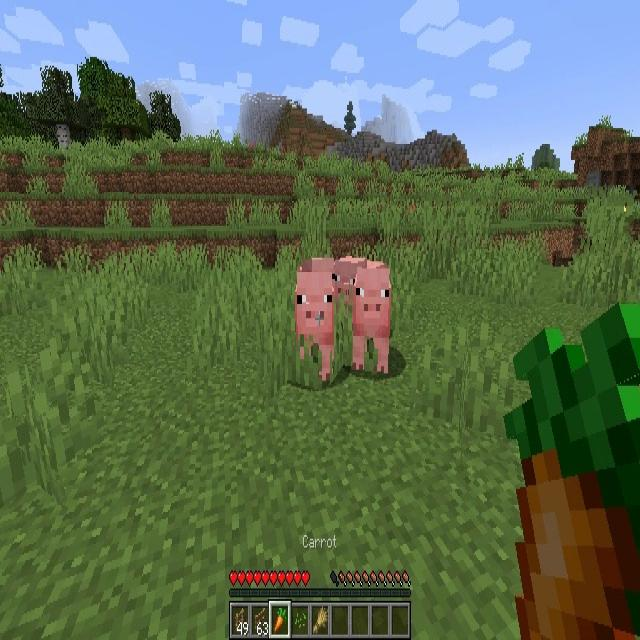pig: (298, 268, 336, 380), (353, 271, 393, 373), (336, 260, 384, 303)
